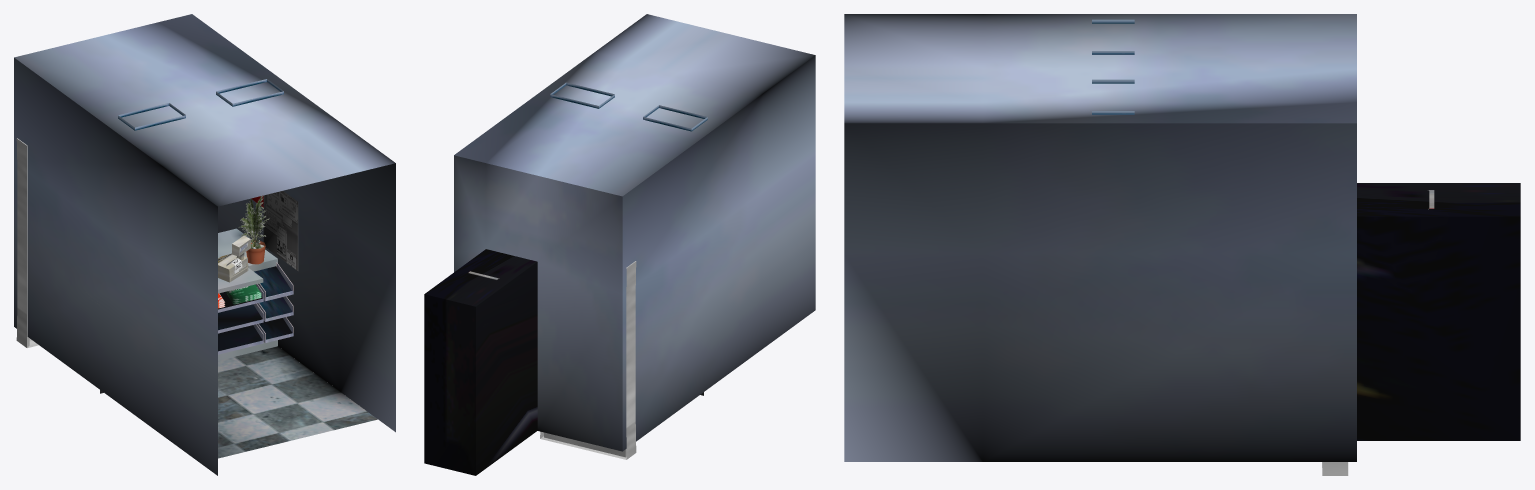
Rendered from testshop.gltf.
3 renders of one model, left to right at view 1: azimuth 30°, elevation 25°; view 2: azimuth 150°, elevation 25°; view 3: azimuth 270°, elevation 25°, orthographic. The views are drawn at different scales.
Parts seen in each view (by area): view 1: room; view 2: room; view 3: room.
Part boxes in pixels (left/top/right/bottom): room: left=14, top=14, right=395, bottom=475; room: left=424, top=14, right=815, bottom=475; room: left=844, top=14, right=1520, bottom=475.
Bounding box in the file's own units: 5.56 × 8.43 × 14.48.
7 materials, 6 textured.
